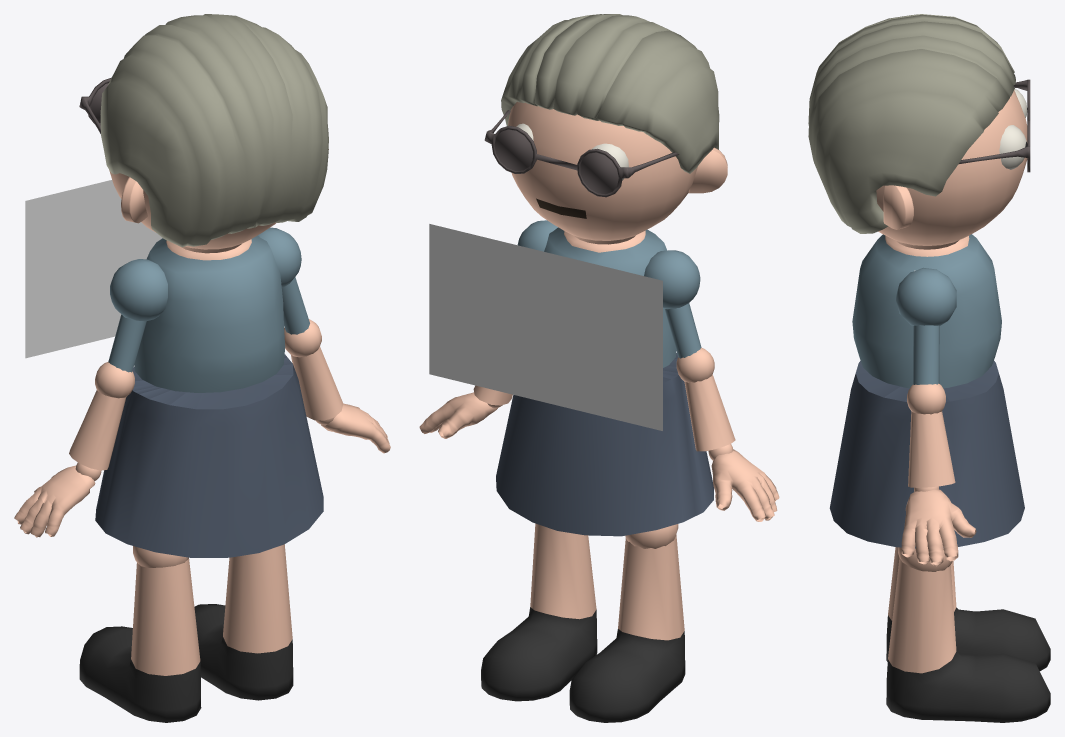
The model's file is Billboard_School.fbx.
The picture shows the model from 3 angles, left to right: view 1: azimuth 30°, elevation 25°; view 2: azimuth 150°, elevation 25°; view 3: azimuth 270°, elevation 25°; orthographic projection. The views are drawn at different scales.
Visible parts, largest first — view 1: Robot-New-Body, Robot-head.001, Paper 01; view 2: Robot-New-Body, Robot-head.001, Paper 01; view 3: Robot-New-Body, Robot-head.001.
Boxes of the visible parts, x1=… form: Robot-New-Body: x1=14, y1=227, x2=390, y2=722; Robot-head.001: x1=79, y1=14, x2=328, y2=253; Paper 01: x1=25, y1=180, x2=162, y2=358; Robot-New-Body: x1=419, y1=220, x2=779, y2=722; Robot-head.001: x1=484, y1=14, x2=727, y2=244; Paper 01: x1=429, y1=224, x2=662, y2=430; Robot-New-Body: x1=829, y1=234, x2=1050, y2=722; Robot-head.001: x1=808, y1=14, x2=1030, y2=249.
Size of the model in its own units: 9.05 by 15.87 by 5.3.
